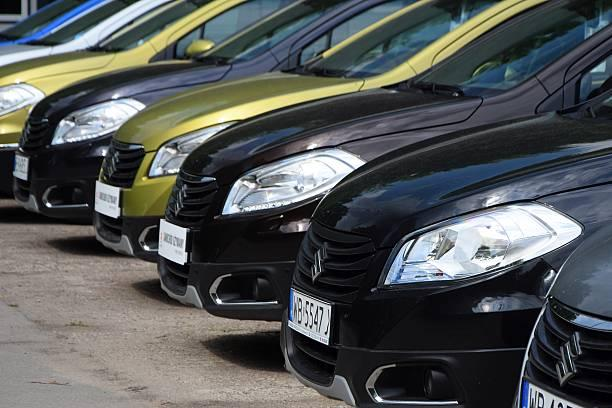suzuki: (546, 326, 587, 392), (306, 238, 337, 284), (167, 178, 198, 222), (104, 148, 124, 182)
